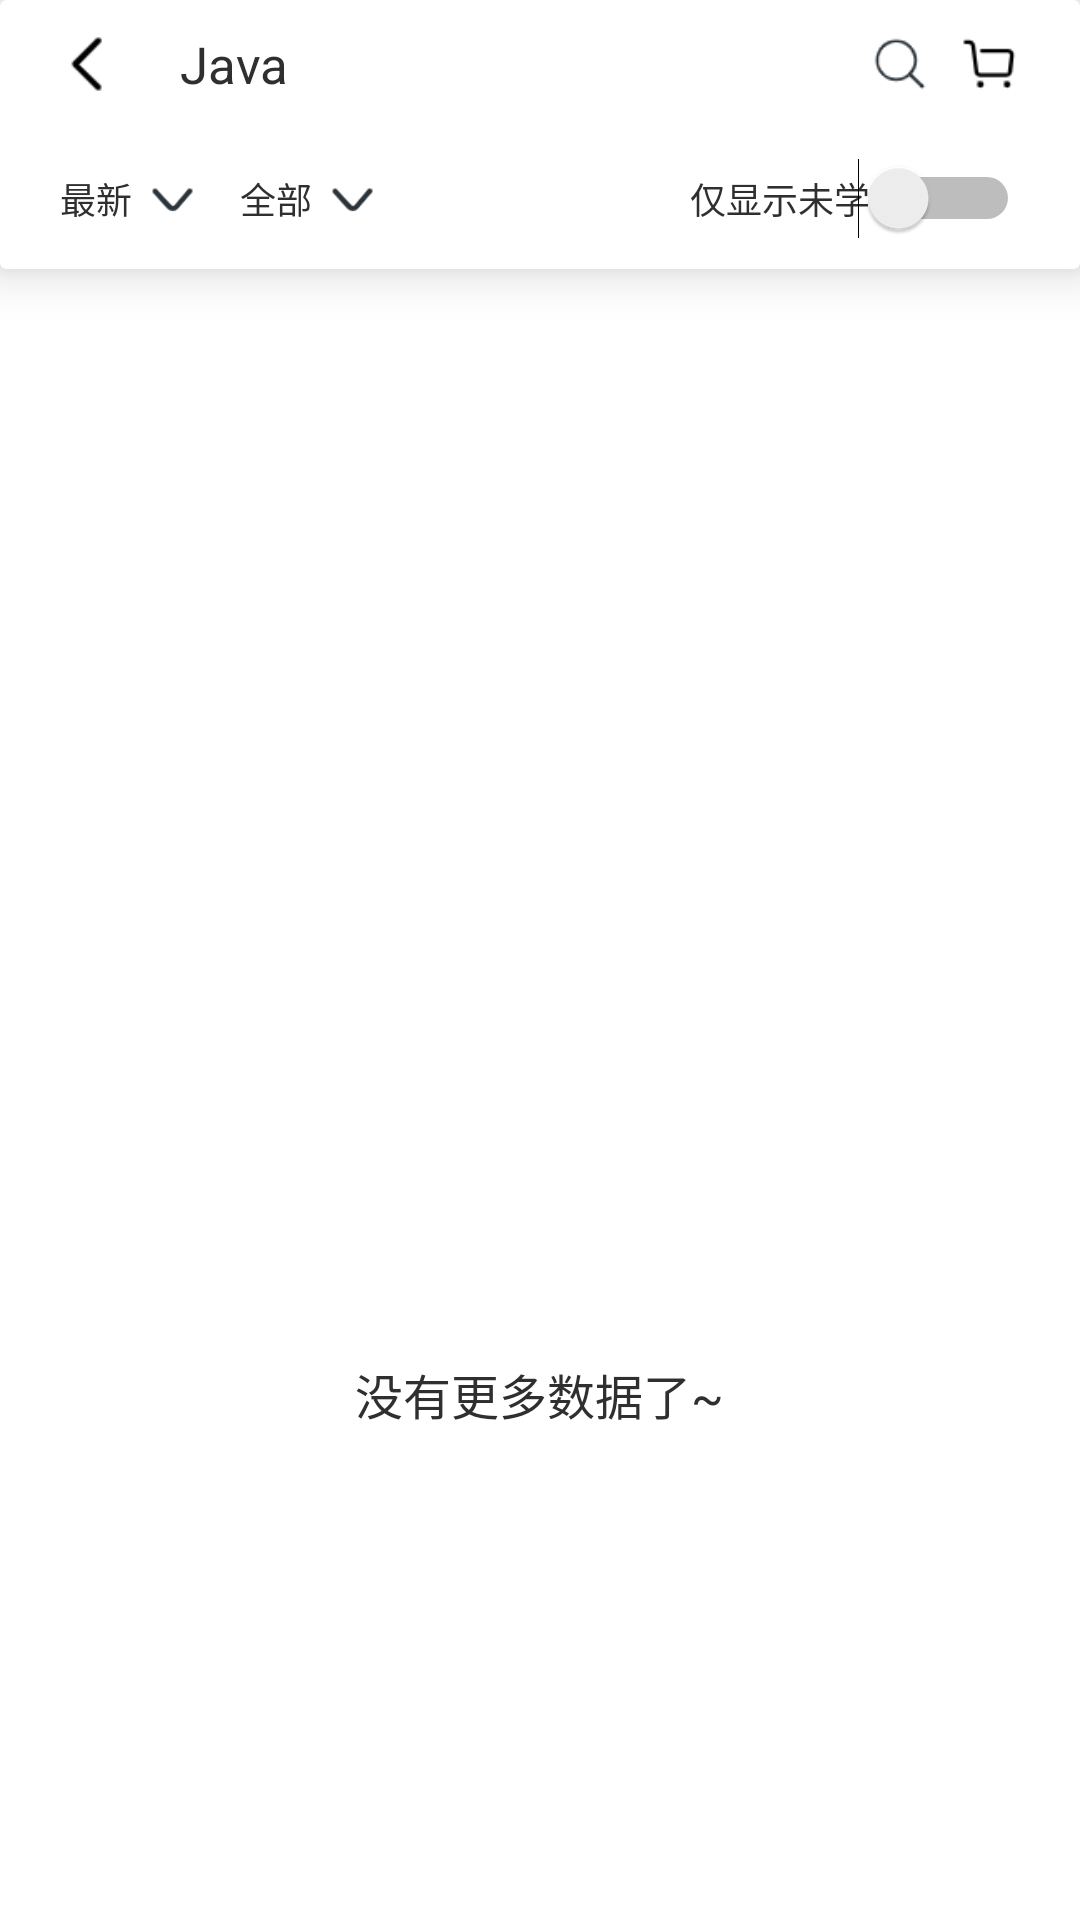

Where icons sit on this 1080×1920 app screen, as (left=x1, top=y1, right=x2, bottom=y2):
arrow back nobar: (left=71, top=37, right=102, bottom=91)
arrow down: (left=152, top=188, right=193, bottom=211), (left=332, top=188, right=373, bottom=211)
cart: (left=963, top=39, right=1015, bottom=89)
search: (left=875, top=39, right=925, bottom=89)
